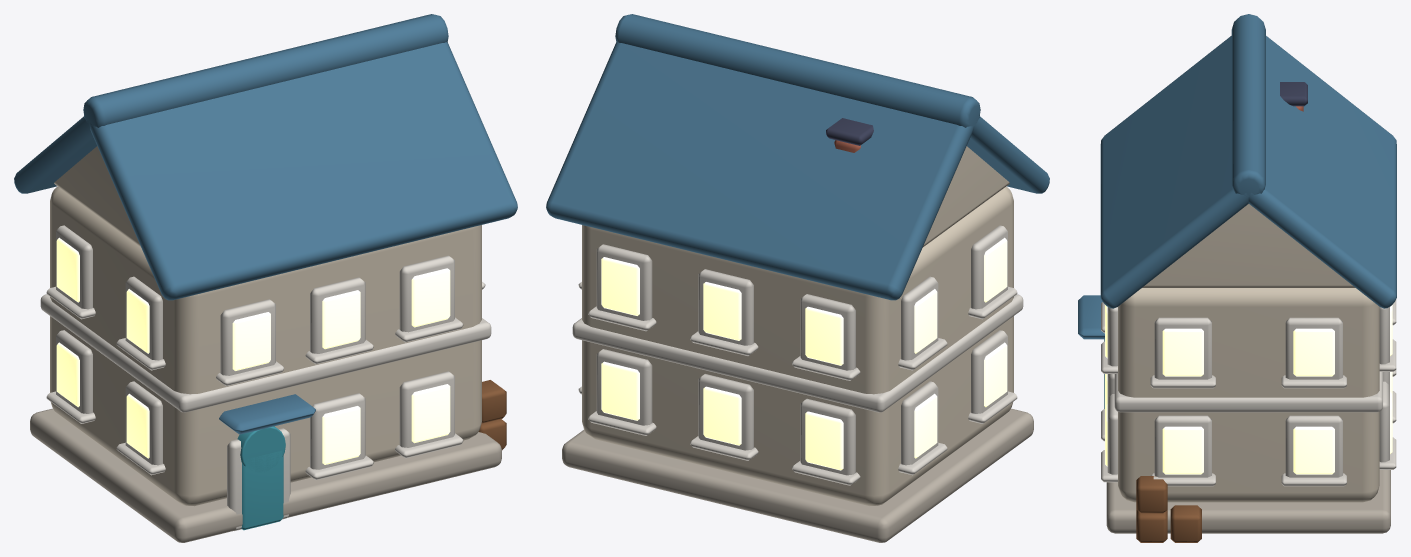
The picture shows the model from 3 angles, left to right: view 1: azimuth 30°, elevation 25°; view 2: azimuth 150°, elevation 25°; view 3: azimuth 270°, elevation 25°; orthographic projection. The views are drawn at different scales.
Visible parts, largest first — view 1: Cube; view 2: Cube; view 3: Cube.
Part boxes in pixels (x1,y1,x2,y2): Cube: (14, 14, 517, 542); Cube: (546, 14, 1049, 542); Cube: (1078, 14, 1396, 542).
Bounding box in the file's own units: 0.6825 × 0.7175 × 0.5602.
